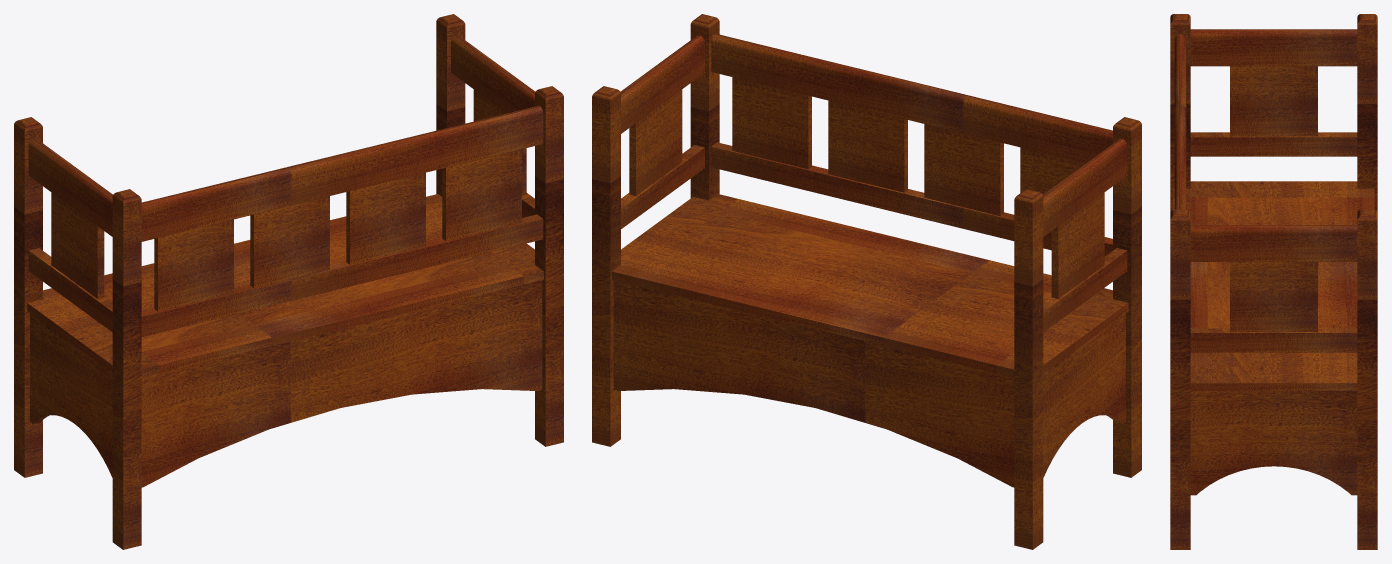
The picture shows the model from 3 angles, left to right: view 1: azimuth 30°, elevation 25°; view 2: azimuth 150°, elevation 25°; view 3: azimuth 270°, elevation 25°; orthographic projection. The views are drawn at different scales.
Visible parts, largest first — view 1: mesh39_mesh39-geometry, mesh17_mesh17-geometry, mesh7_mesh7-geometry, mesh43_mesh43-geometry, mesh9_mesh9-geometry, mesh5_mesh5-geometry, mesh47_mesh47-geometry, mesh3_mesh3-geometry, mesh33_mesh33-geometry, mesh15_mesh15-geometry, mesh13_mesh13-geometry, mesh19_mesh19-geometry (+9 smaller); view 2: mesh37_mesh37-geometry, mesh47_mesh47-geometry, mesh17_mesh17-geometry, mesh3_mesh3-geometry, mesh1_mesh1-geometry, mesh7_mesh7-geometry, mesh9_mesh9-geometry, mesh33_mesh33-geometry, mesh11_mesh11-geometry, mesh19_mesh19-geometry, mesh13_mesh13-geometry, mesh43_mesh43-geometry (+10 smaller); view 3: mesh35_mesh35-geometry, mesh47_mesh47-geometry, mesh1_mesh1-geometry, mesh5_mesh5-geometry, mesh23_mesh23-geometry, mesh25_mesh25-geometry, mesh29_mesh29-geometry, mesh31_mesh31-geometry, mesh45_mesh45-geometry, mesh21_mesh21-geometry, mesh27_mesh27-geometry, mesh3_mesh3-geometry (+4 smaller).
Boxes of the visible parts, x1,y1,x2,y2 form: mesh39_mesh39-geometry: [141, 280, 542, 487]; mesh17_mesh17-geometry: [141, 105, 543, 241]; mesh7_mesh7-geometry: [112, 189, 141, 549]; mesh43_mesh43-geometry: [142, 263, 524, 373]; mesh9_mesh9-geometry: [141, 214, 543, 337]; mesh5_mesh5-geometry: [535, 86, 563, 446]; mesh47_mesh47-geometry: [104, 204, 505, 351]; mesh3_mesh3-geometry: [14, 117, 42, 477]; mesh33_mesh33-geometry: [30, 313, 112, 477]; mesh15_mesh15-geometry: [154, 219, 233, 311]; mesh13_mesh13-geometry: [250, 196, 329, 287]; mesh19_mesh19-geometry: [442, 149, 521, 241]; mesh37_mesh37-geometry: [613, 280, 1014, 487]; mesh47_mesh47-geometry: [631, 212, 1051, 373]; mesh17_mesh17-geometry: [711, 33, 1112, 163]; mesh3_mesh3-geometry: [1014, 189, 1043, 549]; mesh1_mesh1-geometry: [592, 86, 620, 446]; mesh7_mesh7-geometry: [1113, 117, 1141, 477]; mesh9_mesh9-geometry: [711, 142, 1112, 256]; mesh33_mesh33-geometry: [1043, 313, 1125, 477]; mesh11_mesh11-geometry: [828, 100, 907, 192]; mesh19_mesh19-geometry: [732, 77, 811, 169]; mesh13_mesh13-geometry: [924, 124, 1003, 215]; mesh43_mesh43-geometry: [720, 199, 1051, 292]; mesh35_mesh35-geometry: [1190, 391, 1357, 495]; mesh47_mesh47-geometry: [1207, 197, 1374, 366]; mesh1_mesh1-geometry: [1357, 209, 1377, 549]; mesh5_mesh5-geometry: [1170, 209, 1190, 549]; mesh23_mesh23-geometry: [1190, 29, 1357, 66]; mesh25_mesh25-geometry: [1230, 66, 1317, 136]; mesh29_mesh29-geometry: [1190, 225, 1357, 261]; mesh31_mesh31-geometry: [1230, 262, 1317, 331]; mesh45_mesh45-geometry: [1190, 366, 1357, 390]; mesh21_mesh21-geometry: [1190, 132, 1357, 156]; mesh27_mesh27-geometry: [1190, 328, 1357, 352]; mesh3_mesh3-geometry: [1357, 14, 1377, 211].
Size of the model in its own units: 0.7529 by 0.5736 by 0.3227.
